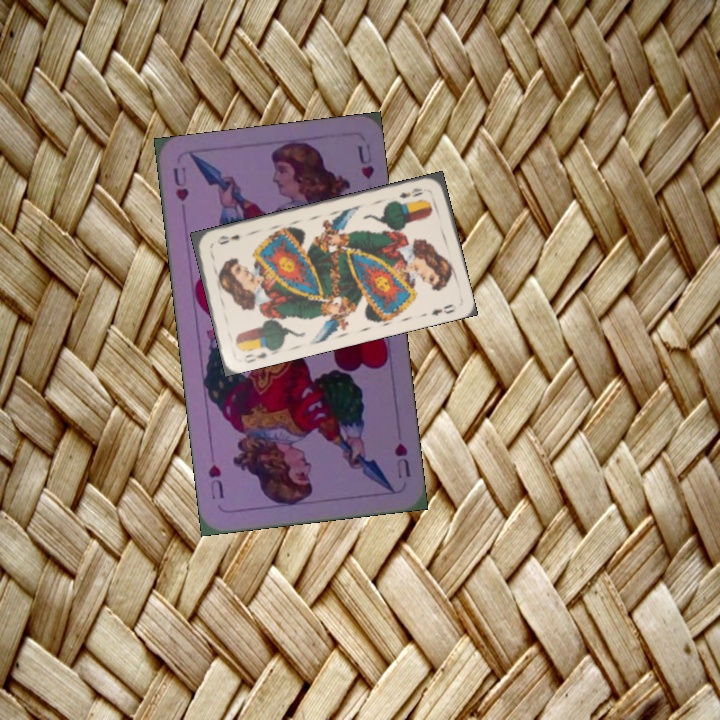EO: (395, 184, 426, 201), (240, 348, 269, 366)
HU: (168, 163, 192, 204), (390, 439, 413, 481)
